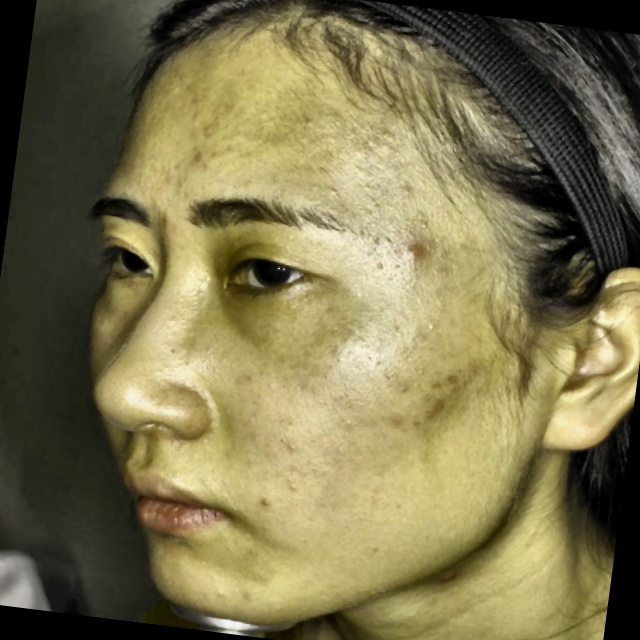comedone: (394, 226, 431, 269), (421, 393, 454, 429), (180, 146, 214, 178), (157, 202, 183, 235)
